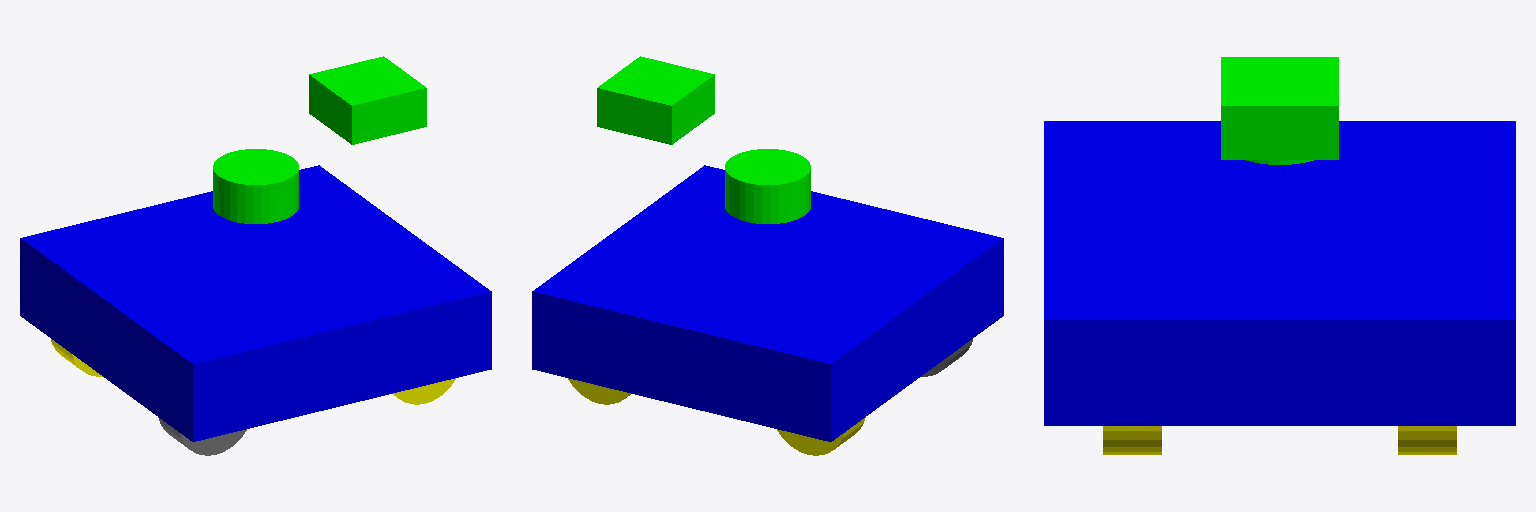
URDF robot description (your_robot_name):
<?xml version="1.0"?>
<robot name="your_robot_name">

  <link name="base_link">
    <visual>
      <geometry>
        <box size="0.4 0.4 0.1"/> 
      </geometry>
      <material name="blue">
        <color rgba="0 0 1 1"/> </material>
    </visual>
    <collision>
      <geometry>
        <box size="0.4 0.4 0.1"/>
      </geometry>
    </collision>
    <inertial>
      <mass value="5"/> 
      <origin xyz="0 0 0" rpy="0 0 0"/> 
      <inertia ixx="0.07083333" ixy="0.0" ixz="0.0" iyy="0.07083333" iyz="0.0" izz="0.13333333"/>    
     </inertial>
  </link>

  <link name="before_left_wheel">
    <visual>
      <geometry>
        <cylinder length="0.05" radius="0.05"/> </geometry>
      <material name="red_material">
        <color rgba="1 1 0 1"/> </material>
    </visual>
    <collision>
      <geometry>
        <cylinder length="0.05" radius="0.05"/>
      </geometry>
   <surface>
      <friction>
        <ode>
          <mu>1.0</mu>
          <mu2>1.0</mu2>
        </ode>
      </friction>
    </surface>
    </collision>
    <inertial>
      <mass value="0.1"/>
      <origin xyz="0 0 0" rpy="0 0 0"/>
      <inertia ixx="0.002625" ixy="-0.00225" ixz="0.00075" iyy="0.00256583" iyz="0.00075" izz="0.00456583"/>     
    </inertial>
  </link>

  <joint name="joint_before_left" type="continuous"> <parent link="base_link"/>
    <child link="before_left_wheel"/>
    <origin xyz="0.14 0.125 -0.05" rpy="0 1.570796 1.570796"/> <axis xyz="0 0 1"/> 
  </joint>

  <link name="before_right_wheel">
    <visual>
      <geometry>
        <cylinder length="0.05" radius="0.05"/>
      </geometry>
      <material name="green_material">
        <color rgba="1 1 0 1"/> </material>
    </visual>
    <collision>
      <geometry>
        <cylinder length="0.05" radius="0.05"/>
      </geometry>
    <surface>
      <friction>
        <ode>
          <mu>1.0</mu>
          <mu2>1.0</mu2>
        </ode>
      </friction>
    </surface>
    </collision>
    <inertial>
      <mass value="0.1"/>
      <origin xyz="0 0 0" rpy="0 0 0"/>
      <inertia ixx="0.002625" ixy="-0.00225" ixz="0.00075" iyy="0.00256583" iyz="0.00075" izz="0.00456583"/>     
    </inertial>
  </link>

  <joint name="joint_before_right" type="continuous">
    <parent link="base_link"/>
    <child link="before_right_wheel"/>
    <origin xyz="0.14 -0.125 -0.05" rpy="0 1.570796 1.570796"/>
    <axis xyz="0 0 1"/>
  </joint>

  <link name="after_left_wheel">
    <visual>
      <geometry>
        <cylinder length="0.05" radius="0.05"/>
      </geometry>
      <material name="yellow_material">
        <color rgba="1 1 0 1"/> </material>
    </visual>
    <collision>
      <geometry>
        <cylinder length="0.05" radius="0.05"/>
      </geometry>
       <surface>
      <friction>
        <ode>
          <mu>1.0</mu>
          <mu2>1.0</mu2>
        </ode>
      </friction>
    </surface>
    </collision>
    <inertial>
      <mass value="0.1"/>
      <origin xyz="0 0 0" rpy="0 0 0"/>
      <inertia ixx="0.002625" ixy="-0.00225" ixz="0.00075" iyy="0.00256583" iyz="0.00075" izz="0.00456583"/>     
    </inertial>
  </link>

  <joint name="joint_after_left" type="continuous">
    <parent link="base_link"/>
    <child link="after_left_wheel"/>
    <origin xyz="-0.14 0.125 -0.05" rpy="0 1.570796 1.570796"/>
    <axis xyz="0 0 1"/>
  </joint>

  <link name="after_right_wheel">
    <visual>
      <geometry>
        <cylinder length="0.05" radius="0.05"/>
      </geometry>
      <material name="grey_material">
        <color rgba="0.5 0.5 0.5 1"/> </material>
    </visual>
    <collision>
      <geometry>
        <cylinder length="0.05" radius="0.05"/>
      </geometry>
     <surface>
      <friction>
        <ode>
          <mu>1.0</mu>
          <mu2>1.0</mu2>
        </ode>
      </friction>
    </surface>
    </collision>
    <inertial>
      <mass value="0.1"/>
      <origin xyz="0 0 0" rpy="0 0 0"/>
      <inertia ixx="0.002625" ixy="-0.00225" ixz="0.00075" iyy="0.00256583" iyz="0.00075" izz="0.00456583"/>     
    </inertial>
  </link>

  <joint name="joint_after_right" type="continuous">
    <parent link="base_link"/>
    <child link="after_right_wheel"/>
    <origin xyz="-0.14 -0.125 -0.05" rpy="0 1.570796 1.570796"/> <axis xyz="0 0 1"/>
  </joint>

  <link name="lidar_link">
        <visual>
            <geometry>
                <cylinder length="0.05" radius="0.05"/>
            </geometry>
            <material name ="lidar">
                <color rgba="0.0 1.0 0.0 1.0"/>
            </material>
        </visual>
        <collision>
            <geometry>
                <cylinder length="0.05" radius="0.05"/>
            </geometry>
        </collision>
        <inertial>
            <mass value="0.1"/>          
            <inertia ixx="0.001" ixy="0.0" ixz="0.0"  iyy="0.001" iyz="0.0" izz="0.001" />     
         </inertial>
        <origin xyz="0 0 0.15"/>
  </link>

  <joint name="lidar_joint" type="fixed">
        <parent link="base_link"/>
        <child link="lidar_link"/>
        <origin xyz="0 0 0.15 "/>
  </joint>

   <gazebo reference="lidar_link">
        <sensor type="ray" name="lidar_sensor">
                  <pose>0 0 0 0 0 0</pose>
      <visualize>true</visualize>
      <update_rate>05</update_rate>
         <ray>
          <scan>
            <horizontal>
              <samples>360</samples>
              <resolution>1</resolution>
              <min_angle>0.0</min_angle>
              <max_angle>6.28319</max_angle>
          </horizontal>
        </scan>
        <range>
          <min>0.5</min>
          <max>10</max>
          <resolution>0.015</resolution>
        </range>
        <noise>
          <type>gaussian</type>
          <mean>0.0</mean>
          <stddev>0.01</stddev>
        </noise>
         </ray>
            <plugin name="gazebo_ros_laser" filename="libgazebo_ros_laser.so">
                <topicName>/scan</topicName>
                <frameName>lidar_link</frameName>
            </plugin>
        </sensor>
  </gazebo>
  
  <link name="camera_link">
        <visual>
            <geometry>
                <box size="0.1 0.1 0.05"/>
            </geometry>
            <material name ="camera">
                <color rgba="0.0 1.0 0.0 1.0"/>
            </material>
        </visual>
        <collision>
            <geometry>
                <box size="0.1 0.1 0.05"/>
            </geometry>
        </collision>
        <inertial>
            <mass value="0.1"/>          
            <inertia ixx="0.0001042" iyy="0.0001042" izz="0.0001667" ixy="0.0" ixz="0.0" iyz="0.0"/>
        </inertial>
        <origin xyz="0 0 0.15"/>
  </link>

  <joint name="camera_joint" type="fixed">
        <parent link="lidar_link"/>
        <child link="camera_link"/>
        <origin xyz="0.15 0 0.075"/>
  </joint>

 <gazebo reference="camera_link">
  <sensor type="camera" name="camera_sensor">
    <visualize>true</visualize>
    <pose> 0 0 0 0 0 0 </pose>
    <update_rate>10</update_rate>
    <camera>
      <horizontal_fov>1.3962634</horizontal_fov>
      <image>
        <width>640</width>
        <height>480</height>
        <format>R8G8B8</format>
      </image>
      <clip>
        <near>0.05</near>
        <far>100</far>
      </clip>
    </camera>
    <plugin name="gazebo_ros_camera" filename="libgazebo_ros_camera.so">
      <alwaysOn>true</alwaysOn>
      <updateRate>30</updateRate>
      <cameraName>camera</cameraName>
      <imageTopicName>image_raw</imageTopicName>
      <cameraInfoTopicName>camera_info</cameraInfoTopicName>
      <frameName>camera_link</frameName>
    </plugin>
  </sensor>
 </gazebo>



 <gazebo>
    <plugin name="diff_drive" filename="libgazebo_ros_diff_drive.so">
        <!-- Joint Names -->
        <leftJoint>joint_before_left</leftJoint>
        <rightJoint>joint_before_right</rightJoint>
       <!-- <leftJoint>joint_after_left</leftJoint>-->
        <!--<rightJoint>joint_after_right</rightJoint>-->

        <!-- Wheel Properties -->
        <wheelSeparation>0.25</wheelSeparation>
        <wheelDiameter>0.05</wheelDiameter>

        <!-- Control Topic -->

        <commandTopic>/cmd_vel</commandTopic>

        <!-- Odometry and Frames -->
        <odometryTopic>/odom</odometryTopic>
        <odometryFrame>odom</odometryFrame>
        <odometrySource>world</odometrySource>
        <robotBaseFrame>base_link</robotBaseFrame>

        <!-- Publish Options -->
        <publishOdomTF>true</publishOdomTF>
        <publishWheelTF>true</publishWheelTF>
        <publishTf>true</publishTf>
        <publishWheelJointState>true</publishWheelJointState>
        <!-- Wheel Dynamics -->
        <wheelAcceleration>100.0</wheelAcceleration>
        <wheelTorque>100.0</wheelTorque>
        <updateRate>100</updateRate>
        <rosDebugLevel>na</rosDebugLevel>

        <encoder_ticks_per_revolution>2000</encoder_ticks_per_revolution> <!-- Số xung trên mỗi vòng quay -->
    </plugin>
 </gazebo>

</robot>

--- Render facts (derived) ---
Views: 3 orthographic renders of the robot side by side, from view 1: azimuth 30°, elevation 25°; view 2: azimuth 150°, elevation 25°; view 3: azimuth 270°, elevation 25°.
Robot: your_robot_name — 7 links, 6 joints (4 continuous, 2 fixed); root link base_link; default pose: every joint at zero.
Links seen in each view (by area): view 1: base_link, camera_link, lidar_link, after_right_wheel, before_right_wheel; view 2: base_link, camera_link, lidar_link, after_left_wheel, before_left_wheel; view 3: base_link, camera_link, before_left_wheel, before_right_wheel.
Boxes of the visible links, <box> form: base_link: <box>20,165,491,441</box>; camera_link: <box>309,56,426,144</box>; lidar_link: <box>213,149,298,223</box>; after_right_wheel: <box>158,417,246,455</box>; before_right_wheel: <box>393,378,455,404</box>; base_link: <box>532,165,1003,441</box>; camera_link: <box>597,56,714,144</box>; lidar_link: <box>725,149,810,223</box>; after_left_wheel: <box>777,417,865,455</box>; before_left_wheel: <box>568,378,630,404</box>; base_link: <box>1044,121,1515,425</box>; camera_link: <box>1221,57,1338,159</box>; before_left_wheel: <box>1398,426,1456,454</box>; before_right_wheel: <box>1103,426,1161,454</box>.
Bounding box of the posed robot: 0.4 × 0.4 × 0.35 m (x, y, z).
Geometry: primitives only (box / cylinder / sphere), no mesh files.
